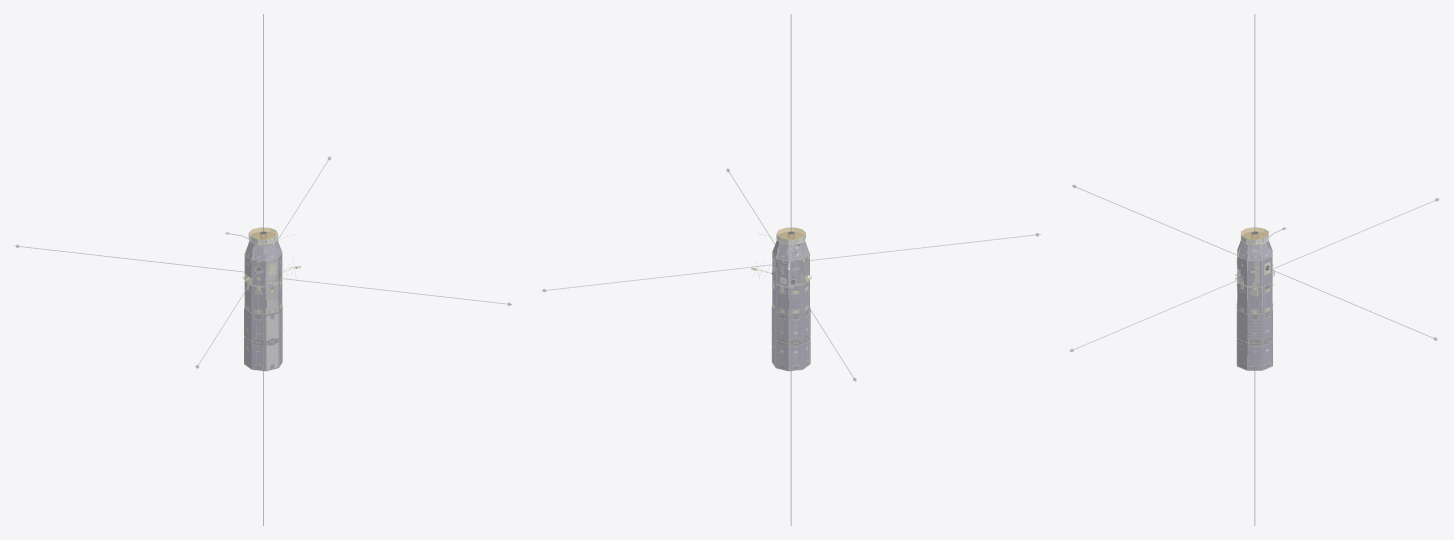
File: Communication and Navigation Outage Forecast System (CNOFS).glb
3 renders of one model, left to right at view 1: azimuth 30°, elevation 25°; view 2: azimuth 150°, elevation 25°; view 3: azimuth 270°, elevation 25°, orthographic.
Parts seen in each view (by area): view 1: mesh_0_13, mesh_0_11, mesh_0_19, mesh_0_14; view 2: mesh_0_13, mesh_0_11, mesh_0_19, mesh_0_14, mesh_0_20; view 3: mesh_0_13, mesh_0_11, mesh_0_19, mesh_0_14, mesh_0_20.
Boxes of the visible parts, <box> form: mesh_0_13: <box>244,240,282,370</box>; mesh_0_11: <box>245,240,281,314</box>; mesh_0_19: <box>244,311,282,369</box>; mesh_0_14: <box>15,14,511,525</box>; mesh_0_13: <box>772,241,810,370</box>; mesh_0_11: <box>772,241,809,314</box>; mesh_0_19: <box>772,308,809,369</box>; mesh_0_14: <box>542,14,1039,525</box>; mesh_0_20: <box>772,244,809,369</box>; mesh_0_13: <box>1236,241,1272,370</box>; mesh_0_11: <box>1237,241,1274,313</box>; mesh_0_19: <box>1237,312,1272,369</box>; mesh_0_14: <box>1070,14,1438,525</box>; mesh_0_20: <box>1237,243,1272,368</box>.
Size of the model in its own units: 95.79 by 148 by 96.84.
